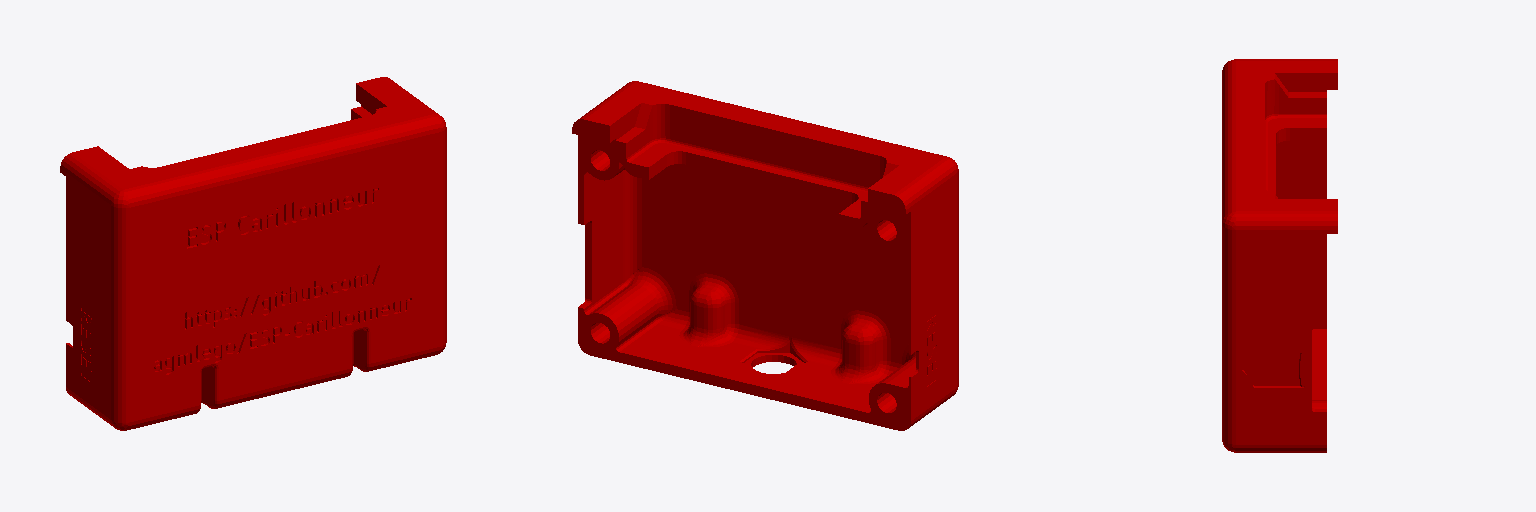
File: case.obj
The picture shows the model from 3 angles: view 1: azimuth 30°, elevation 25°; view 2: azimuth 150°, elevation 25°; view 3: azimuth 270°, elevation 25°; orthographic projection.
Visible parts, largest first — view 1: top; view 2: top; view 3: top.
Boxes of the visible parts, <box> form: top: <box>60,77,446,430</box>; top: <box>572,81,958,430</box>; top: <box>1222,59,1337,452</box>.
Bounding box in the file's own units: 55 × 37.82 × 16.6.